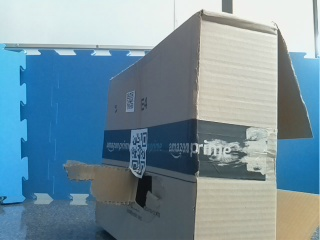caja_rota: (64, 24, 303, 239)
